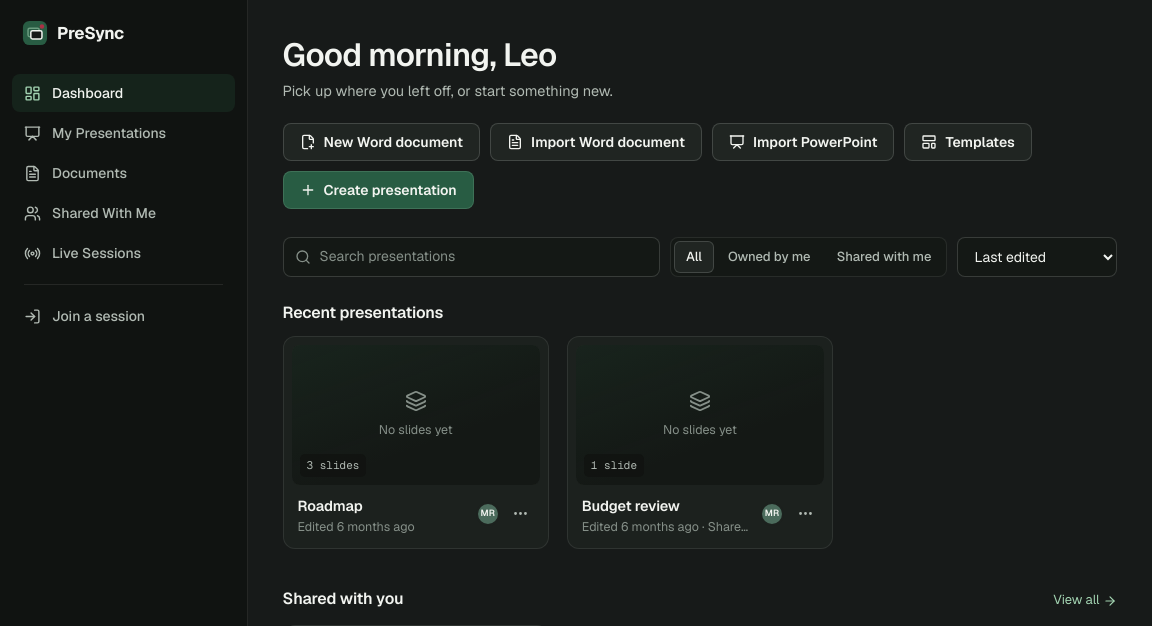
it: DecksPage › filters by search text
This screenshot has width=1152, height=626.
Check: the heading "Roadmap" is shown, box [298, 496, 362, 515]
Type "budget" into the search field with placeholder "Search presentations" at (471, 257), box [282, 237, 660, 277]
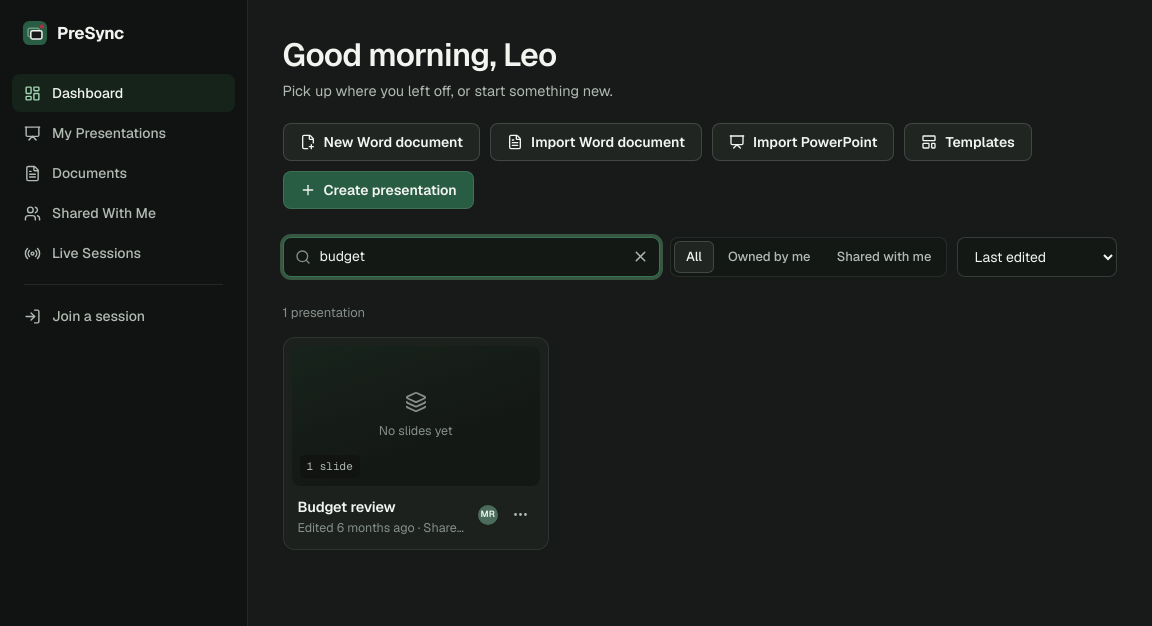
Check: the heading "Budget review" is shown, box [298, 497, 396, 516]
Check: the heading "Roadmap" is gone
Check: the text "1 presentation" is shown, box [282, 304, 365, 321]
